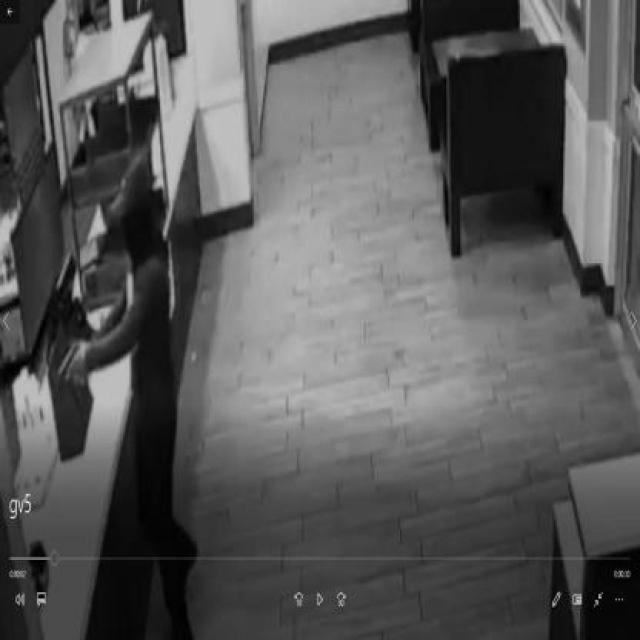weapon: (56, 342, 79, 378)
